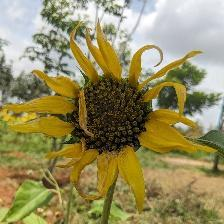sunflower: (2, 16, 224, 213)
